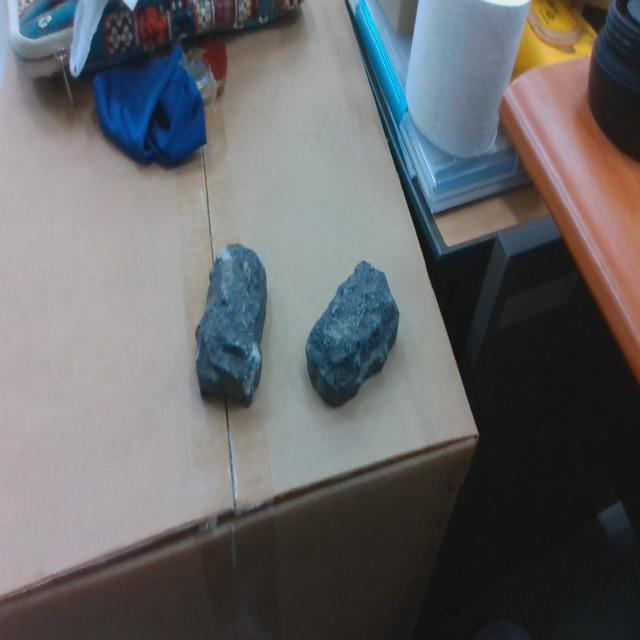stone: (304, 259, 400, 409), (195, 243, 268, 410)
